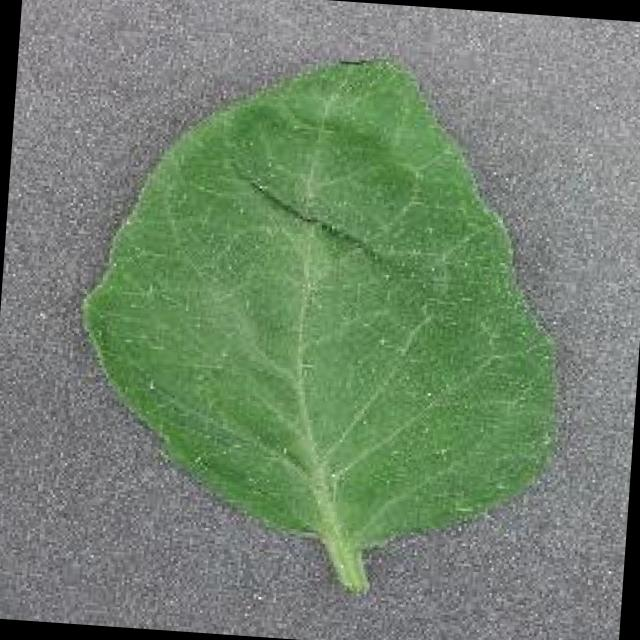Tomato_Healthy: (56, 20, 590, 562)
